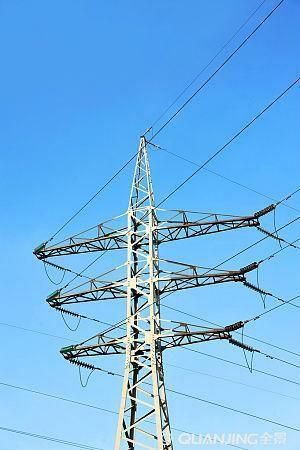power_tower: (55, 128, 253, 450)
